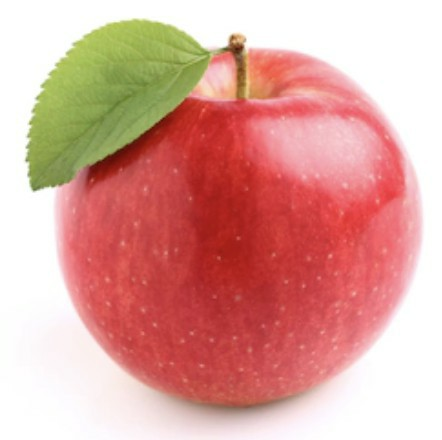fresh_apple: (52, 40, 428, 410)
